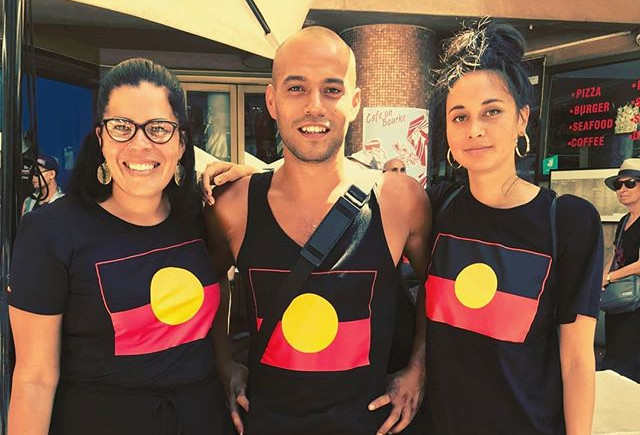aboriginal_flag: (415, 227, 559, 351), (243, 259, 387, 378), (94, 234, 229, 360)
